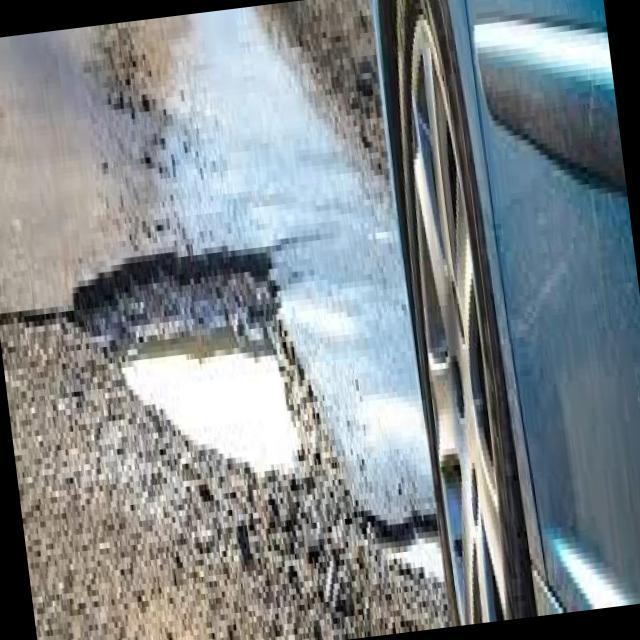Pothole: (71, 255, 450, 640)
